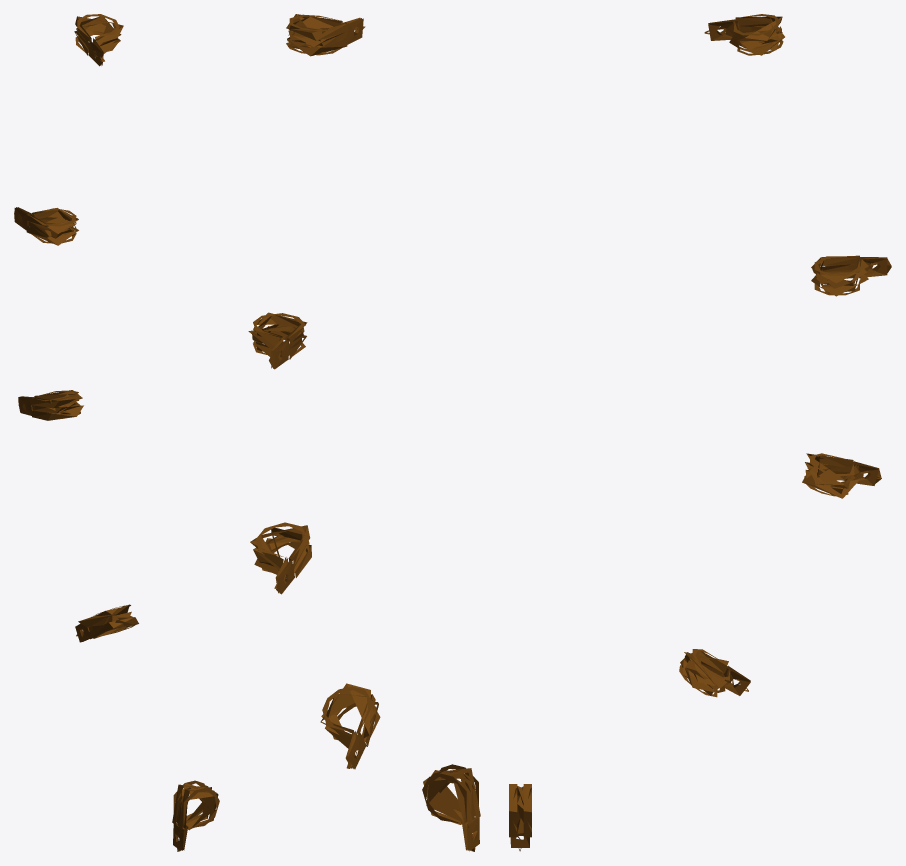
Rendered from rear_right_steer_124.dae.
The picture shows the model from 3 angles, left to right: view 1: azimuth 30°, elevation 25°; view 2: azimuth 150°, elevation 25°; view 3: azimuth 270°, elevation 25°; orthographic projection. The views are drawn at different scales.
Parts seen in each view (by area): view 1: node; view 2: node; view 3: node.
Part boxes in pixels (x1,y1,x2,y2): node: (14,14,219,851); node: (248,14,480,851); node: (509,14,891,851).
Size of the model in its own units: 0.0218 by 0.1208 by 0.2936.
